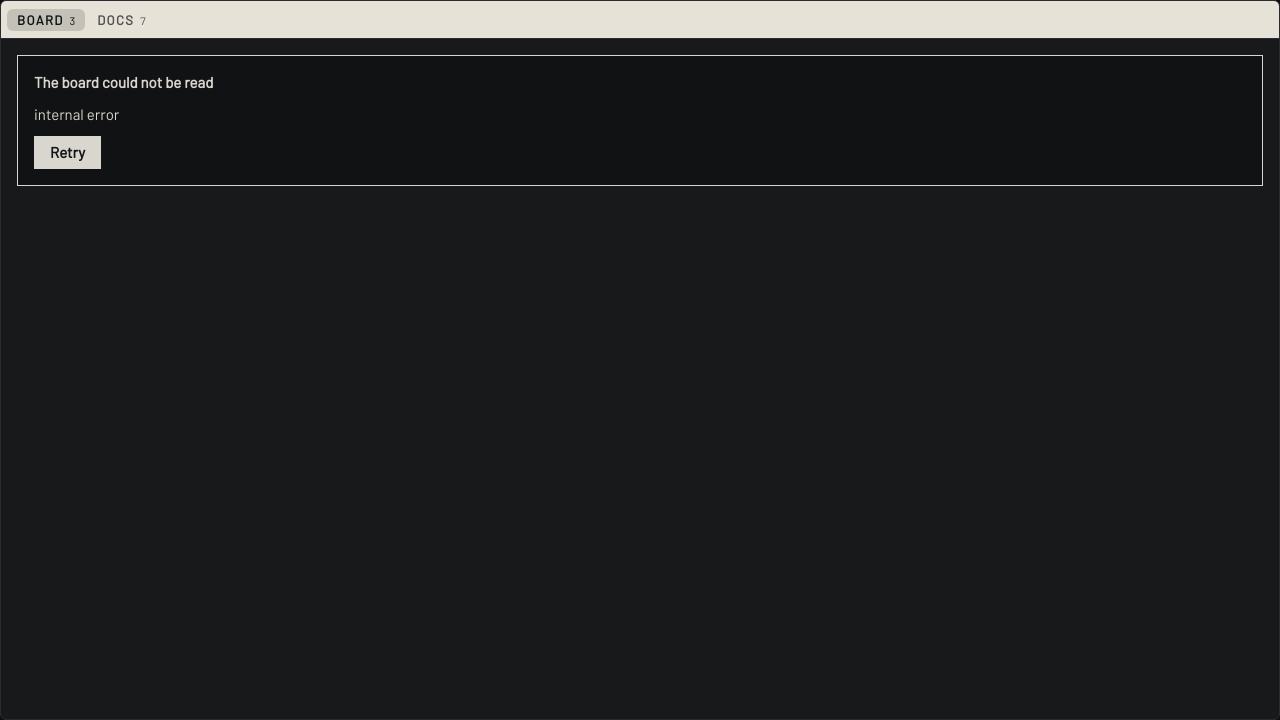
Scenario: the Board › shows a JSON-RPC error as an alert with its message and retries on Retry
Expected: the message shows "internal error", [34,105,119,123]
What coordinates should you click on to do the following:
click the button "Retry"
I would click on:
 (68, 152)
Its box is [34,136,101,169].
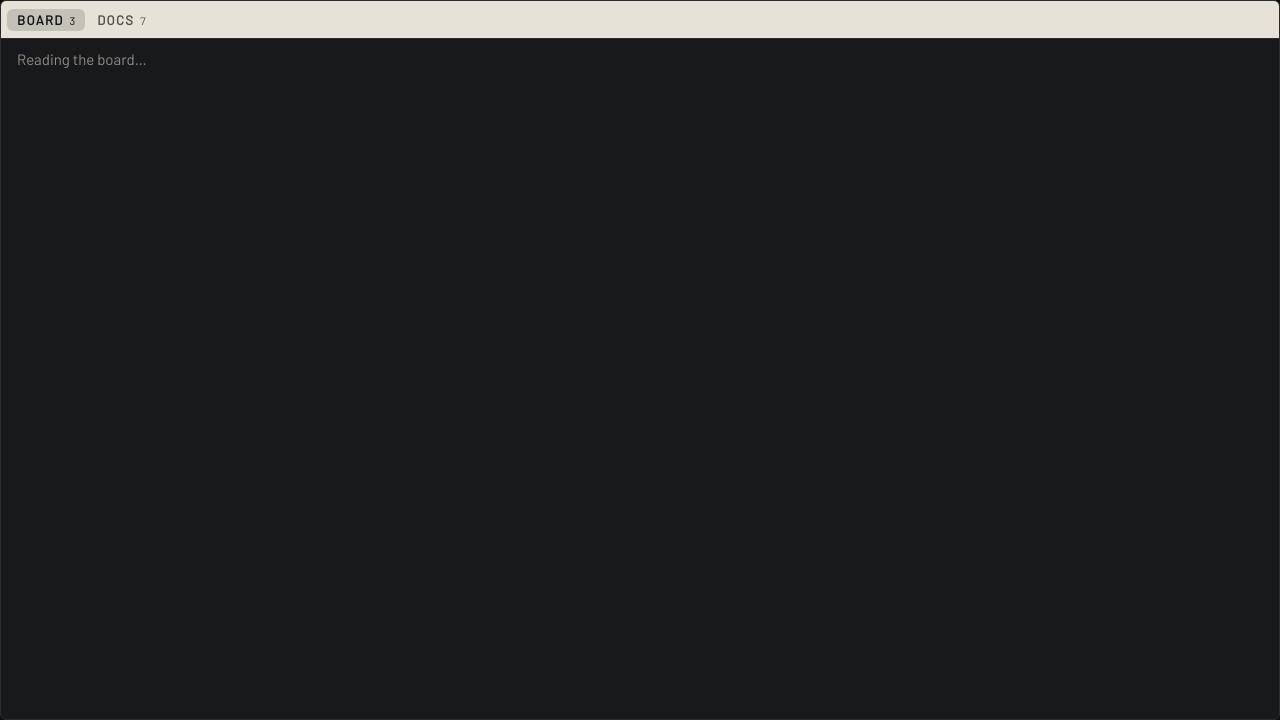
Expected: the message shows "Reading the board", [17,50,147,68]
